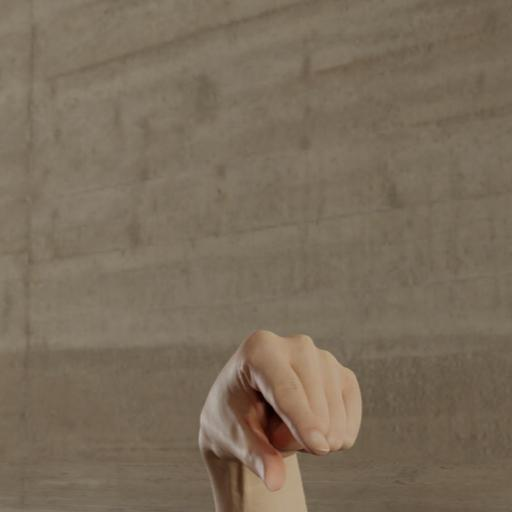Q: (182, 318, 371, 512)
